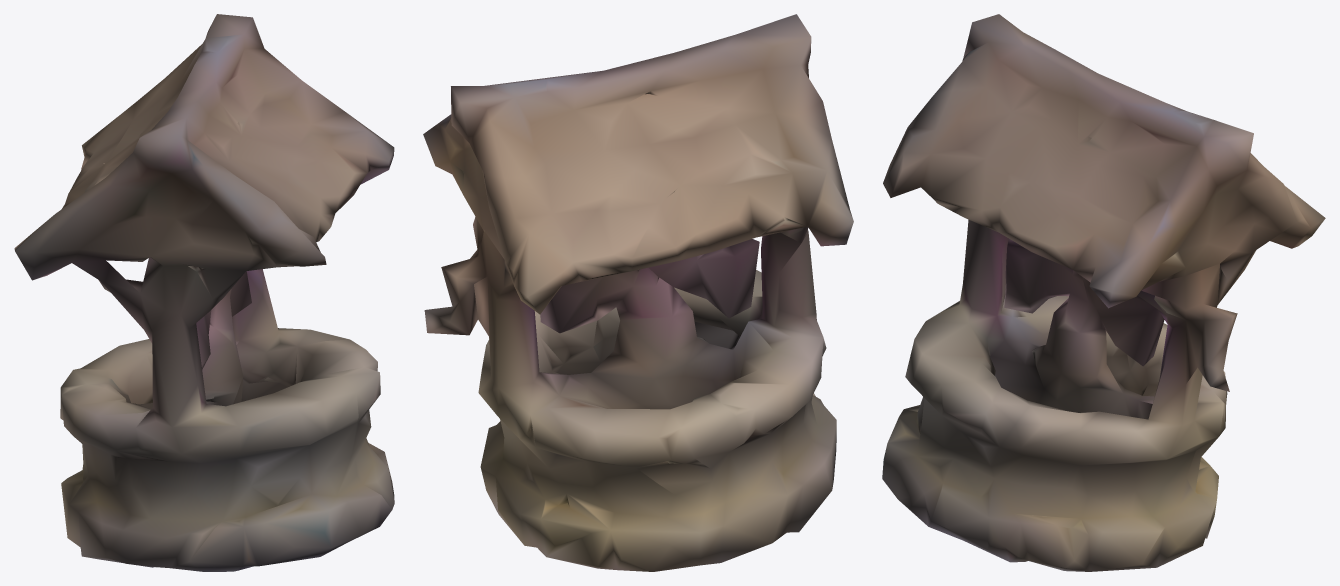
File: poco.glb
3 renders of one model, left to right at view 1: azimuth 30°, elevation 25°; view 2: azimuth 150°, elevation 25°; view 3: azimuth 270°, elevation 25°, orthographic. The views are drawn at different scales.
Bounding box in the file's own units: 0.8844 × 0.9872 × 0.863.
